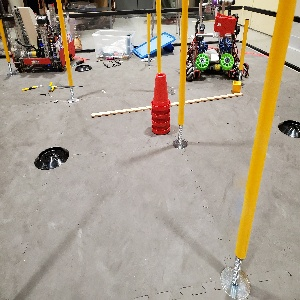Red_4: (151, 72, 170, 134)
